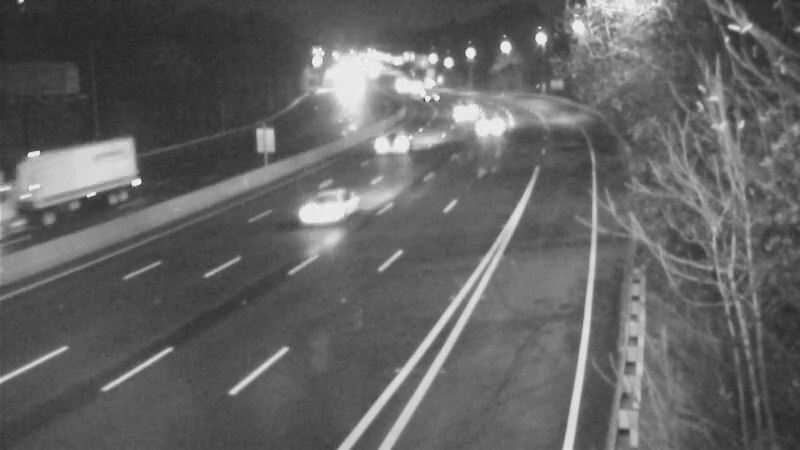vehicle: (287, 171, 367, 251), (12, 162, 92, 242), (441, 86, 491, 136), (467, 100, 517, 150), (365, 117, 415, 167)
